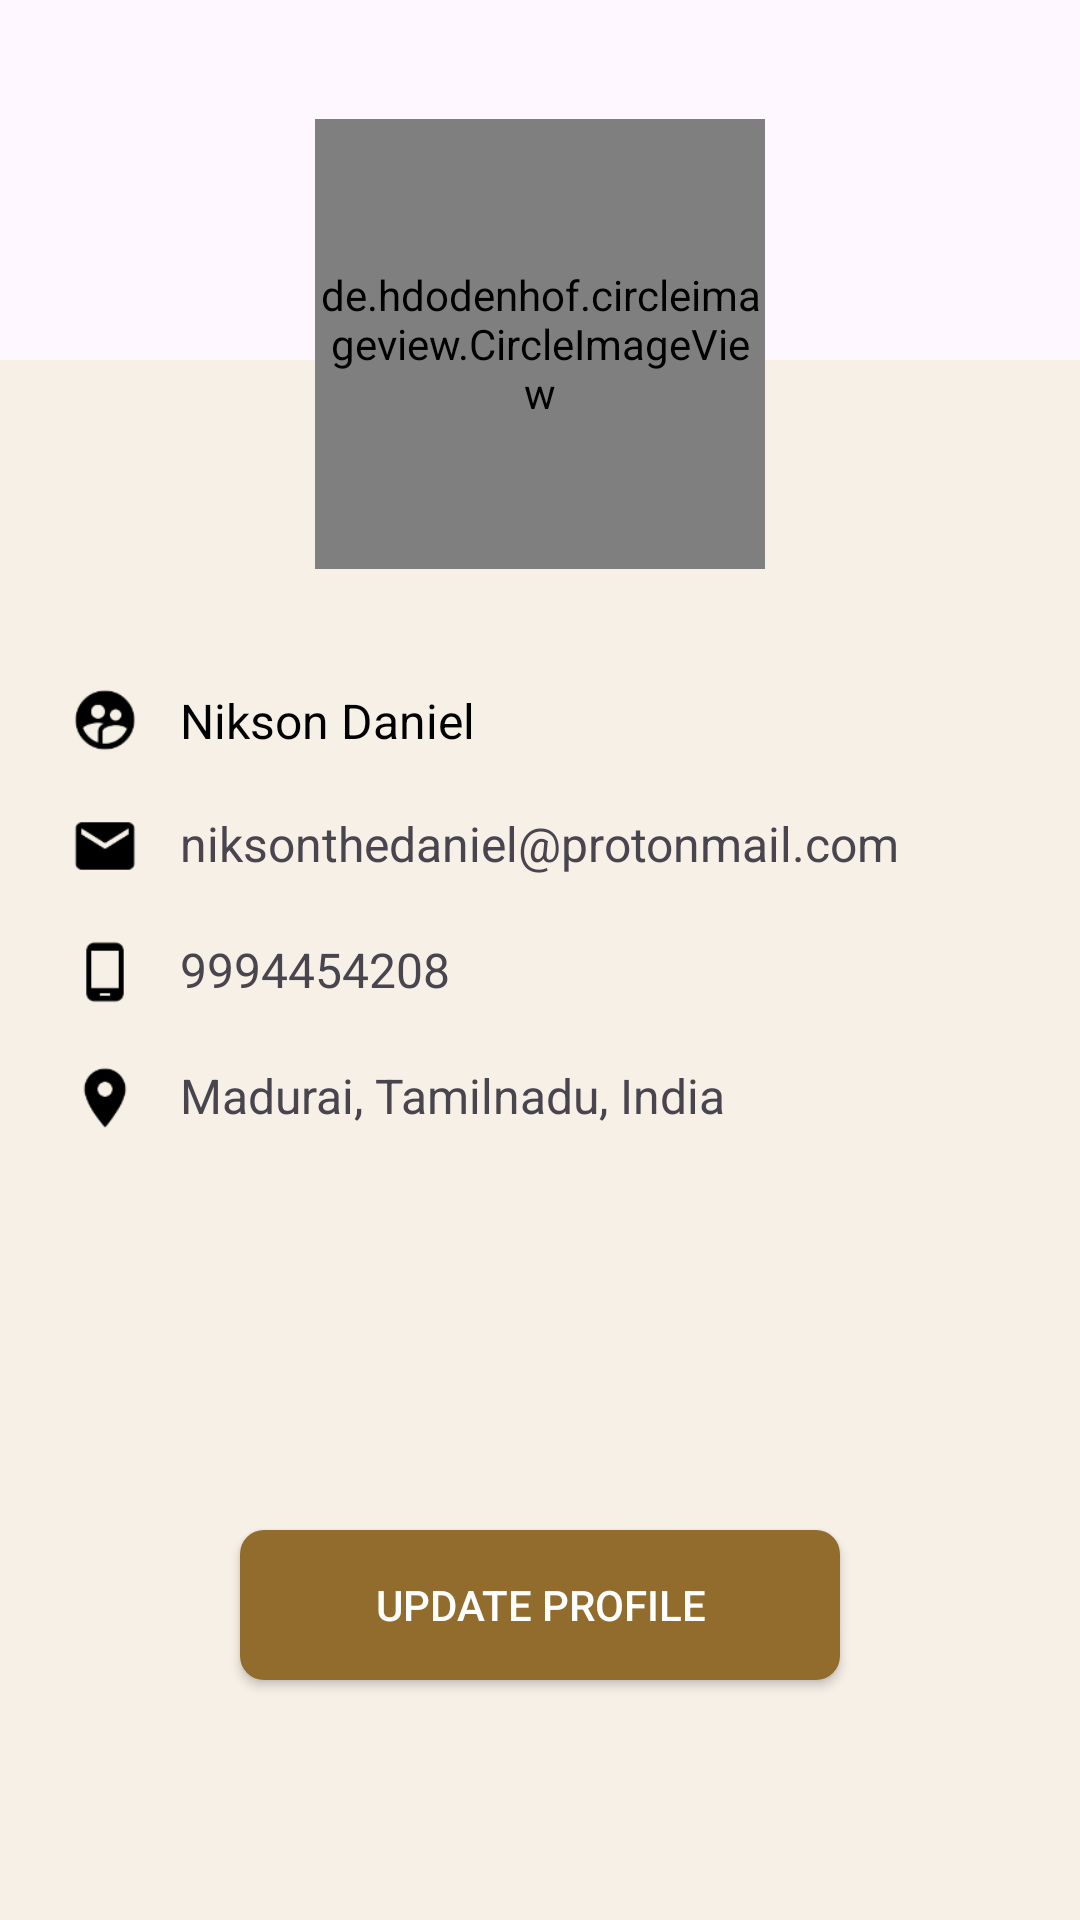

Named icons in this screenshot (1080x1920) and their centers, [x,y]:
email: [105,846]
location: [105,1098]
phone: [105,972]
user: [105,720]
